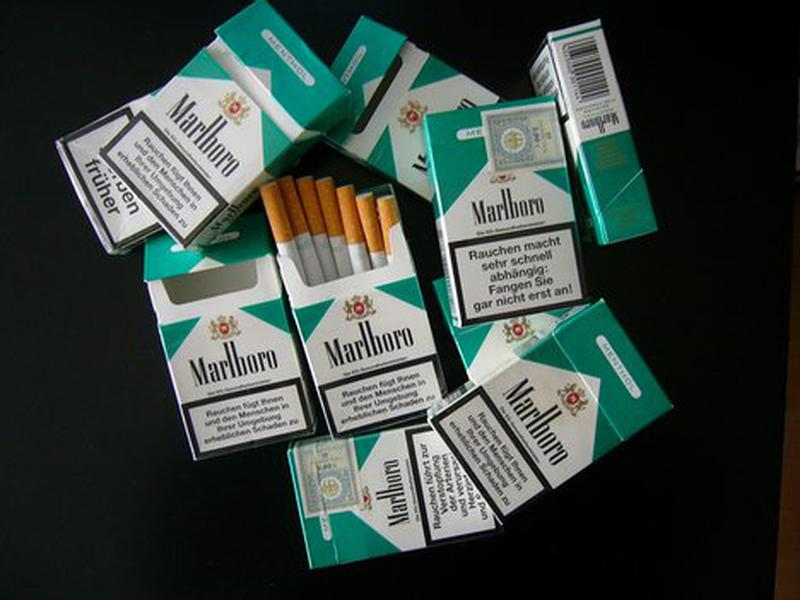marlboro_mentol: (474, 327, 667, 480), (157, 240, 298, 436), (135, 49, 311, 188), (448, 117, 567, 304), (306, 245, 424, 425), (300, 436, 481, 547), (330, 47, 478, 177)
